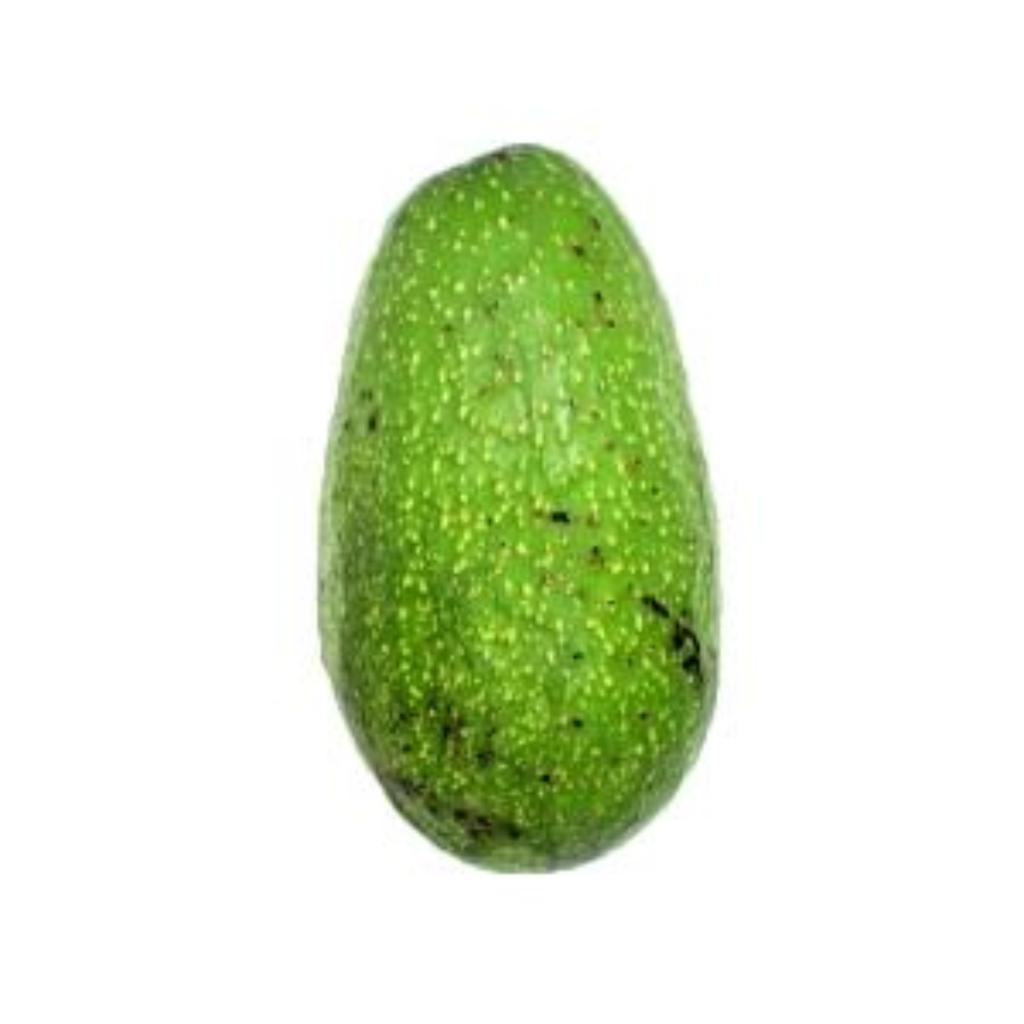cercospora_spot: (312, 121, 742, 889)
